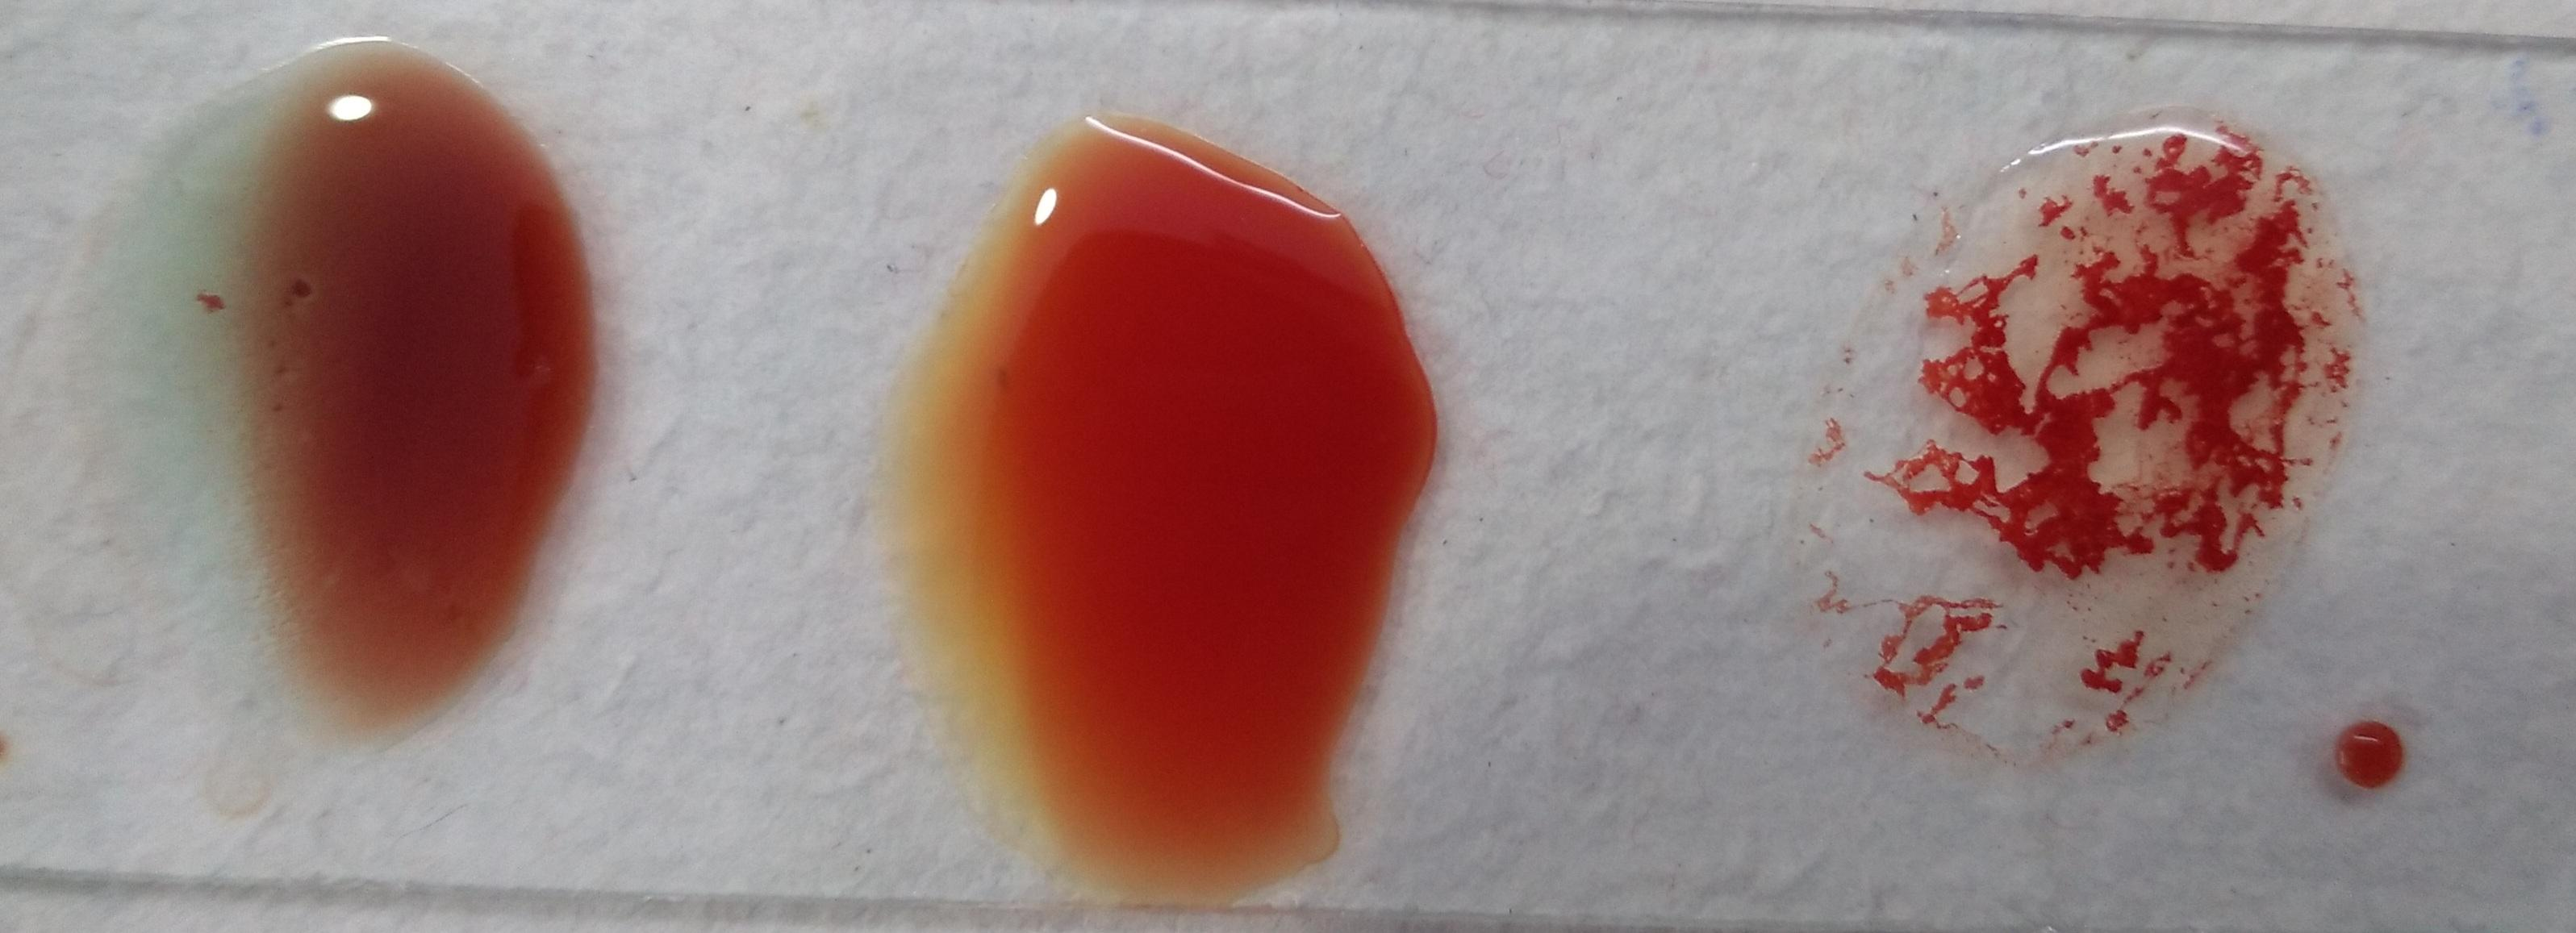D: (1810, 117, 2346, 762)
